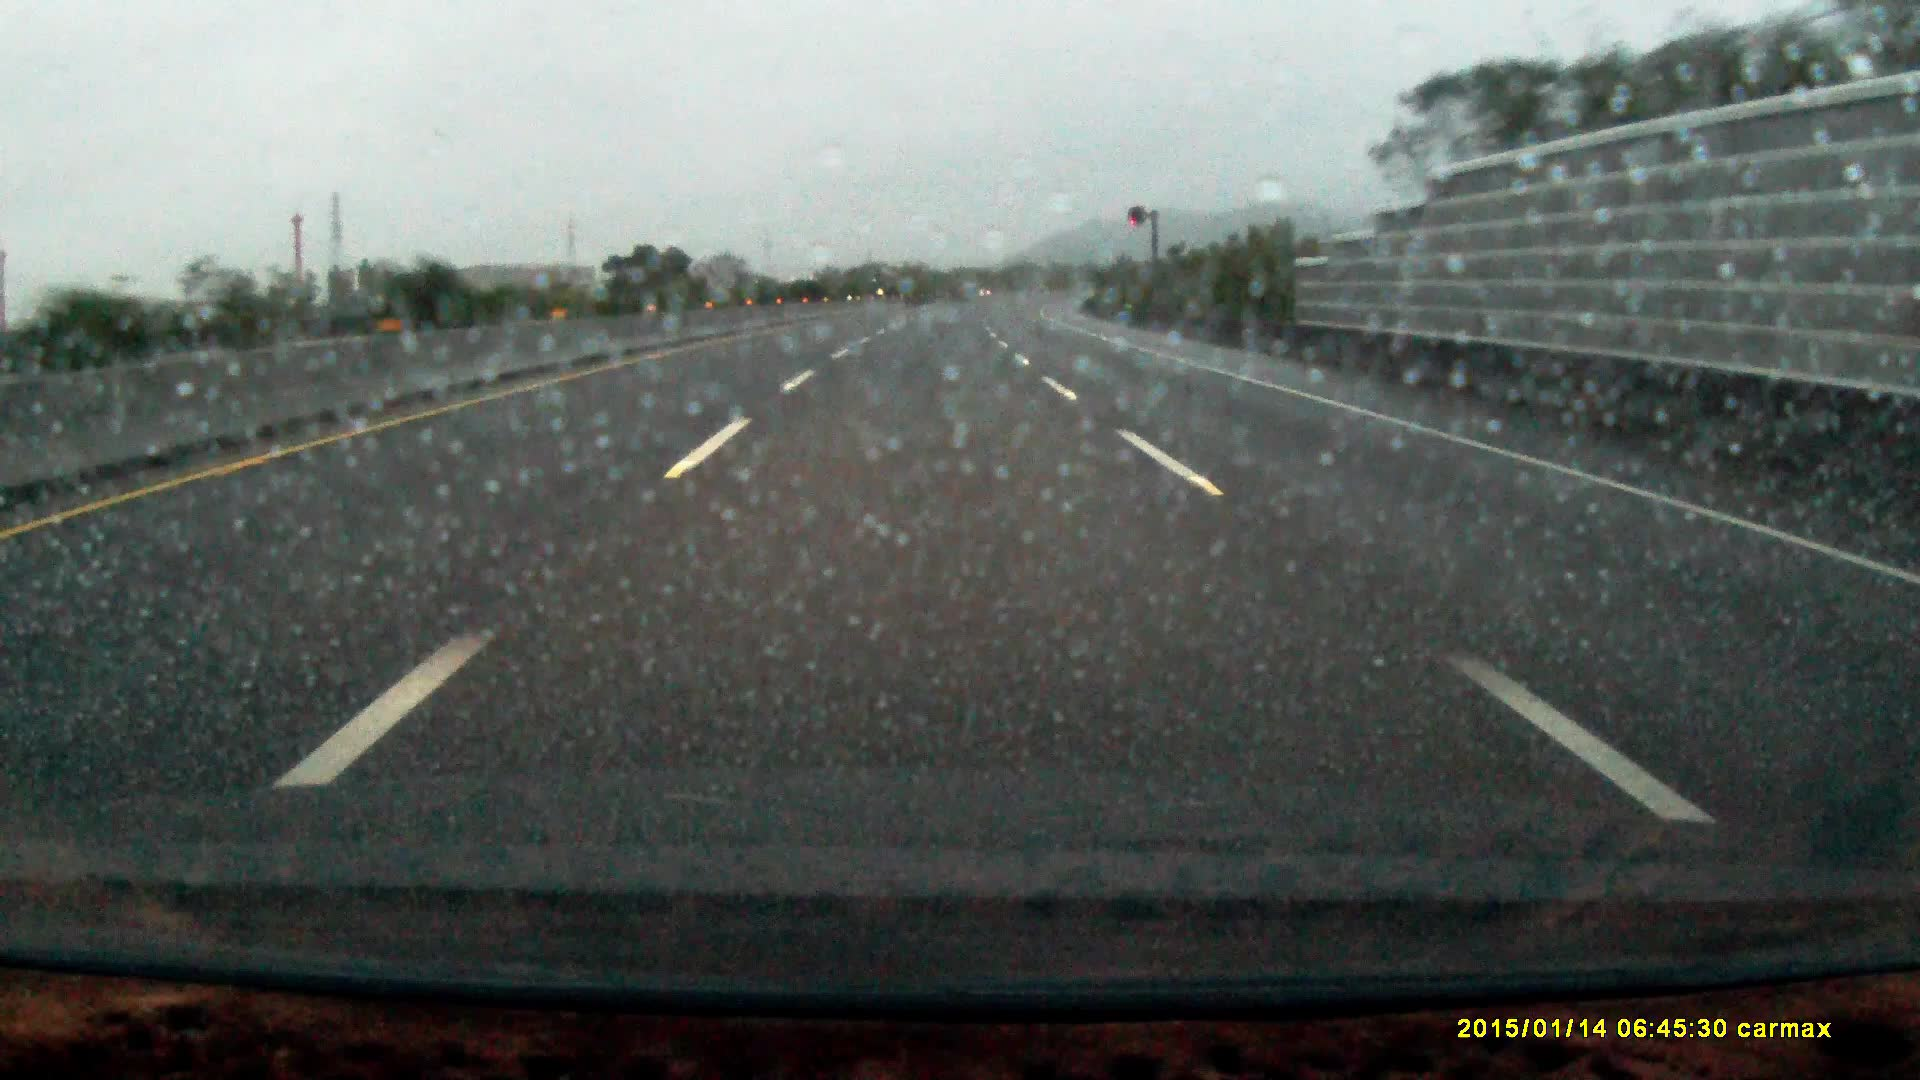vehicle: (864, 270, 902, 301)
